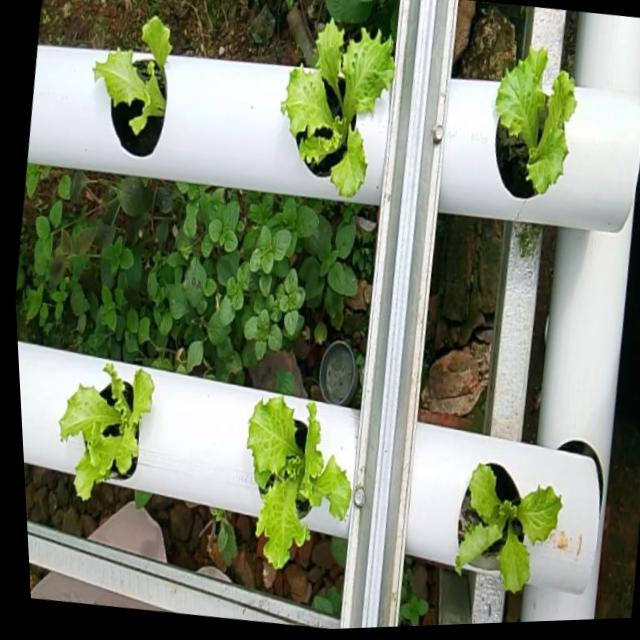Baby: (282, 13, 395, 194), (249, 391, 352, 563), (456, 456, 562, 587), (62, 361, 156, 497), (496, 43, 576, 194), (95, 17, 173, 157)
